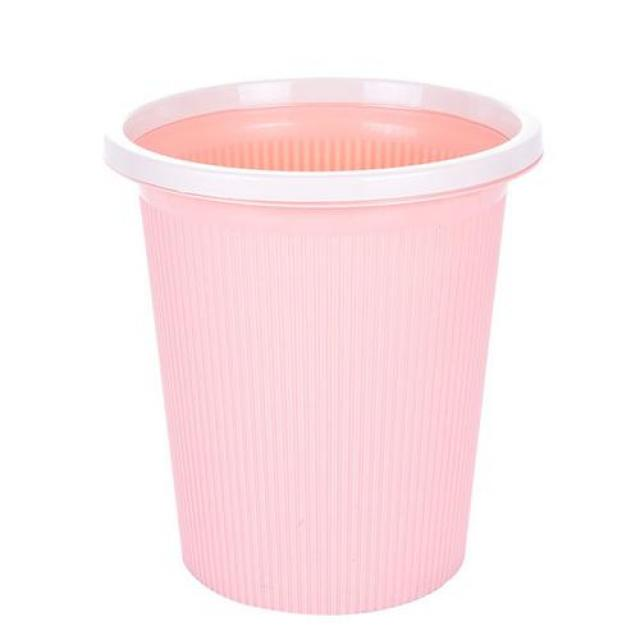Dustbin: (99, 67, 549, 617)
